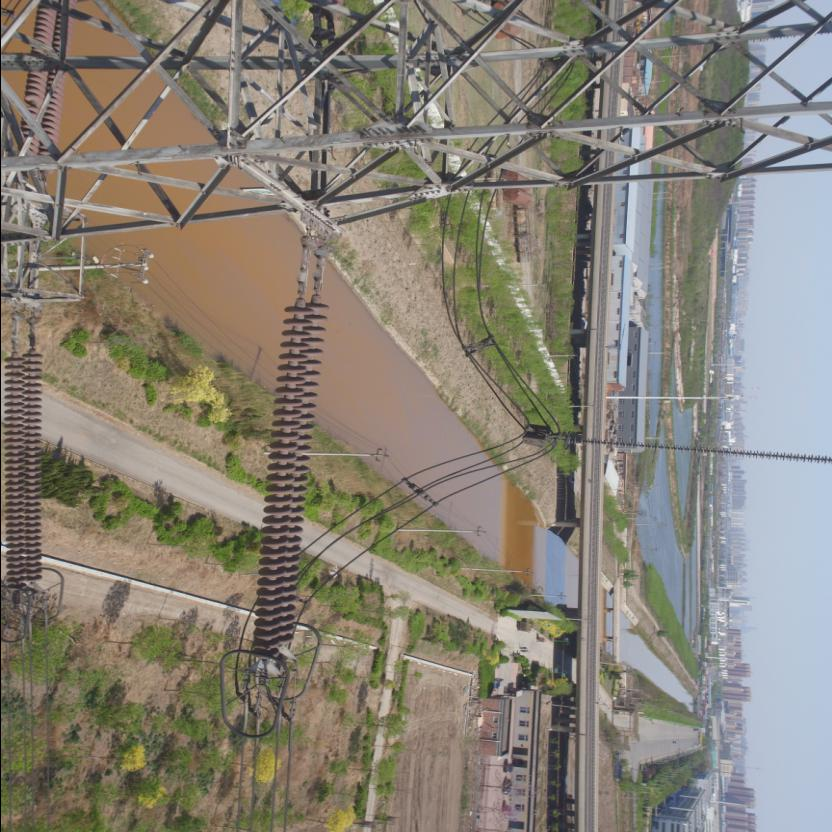insulator: (250, 278, 334, 662), (2, 344, 46, 594), (22, 0, 73, 176)
